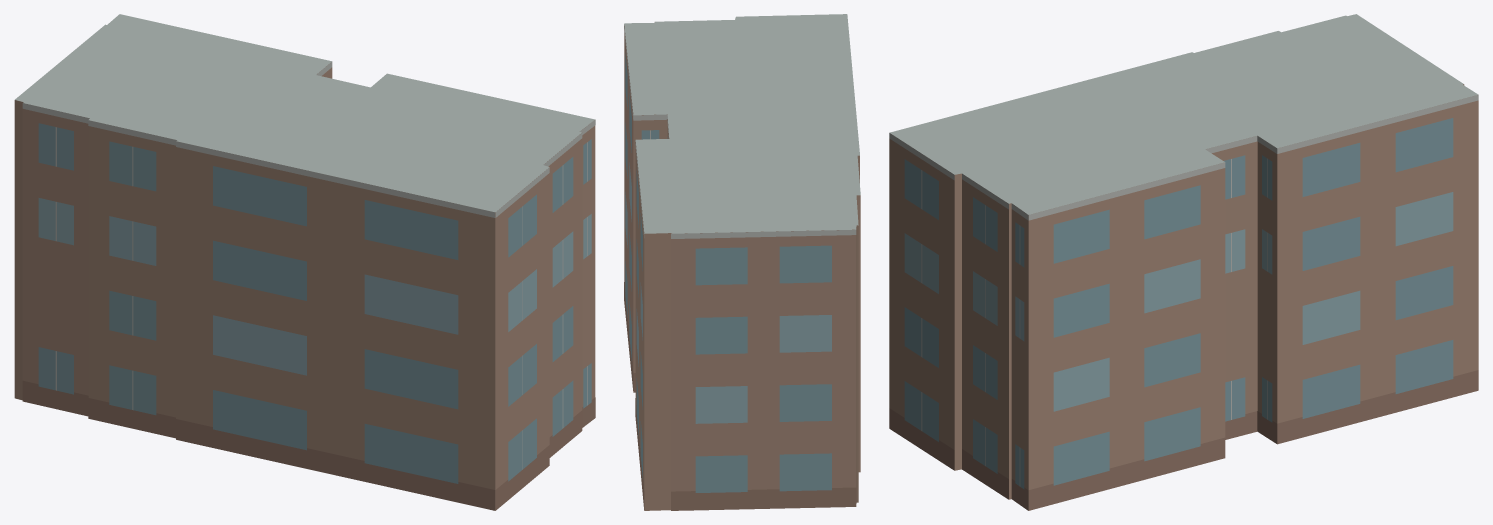
Rendered from survey-upis-32663521.glb.
The picture shows the model from 3 angles, left to right: view 1: azimuth 30°, elevation 25°; view 2: azimuth 150°, elevation 25°; view 3: azimuth 270°, elevation 25°; orthographic projection. The views are drawn at different scales.
Parts seen in each view (by area): view 1: survey-upis-32663521.tmp; view 2: survey-upis-32663521.tmp; view 3: survey-upis-32663521.tmp.
Boxes of the visible parts, x1,y1,x2,y2 form: survey-upis-32663521.tmp: (14,14,595,510); survey-upis-32663521.tmp: (624,14,860,510); survey-upis-32663521.tmp: (889,14,1478,510).
Bounding box in the file's own units: 18.39 × 12.62 × 22.78.
